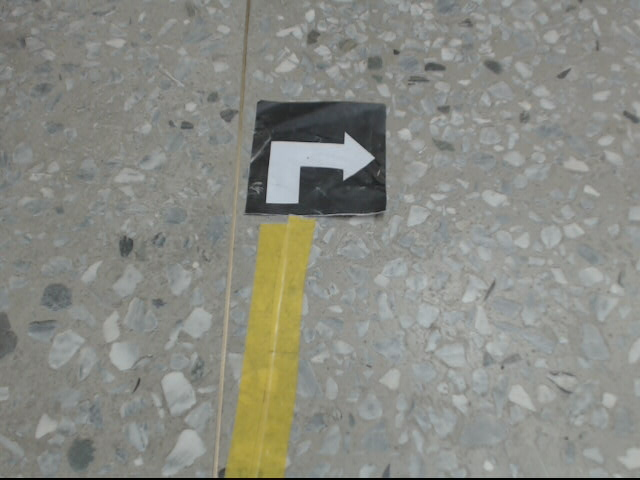right: (246, 99, 390, 216)
